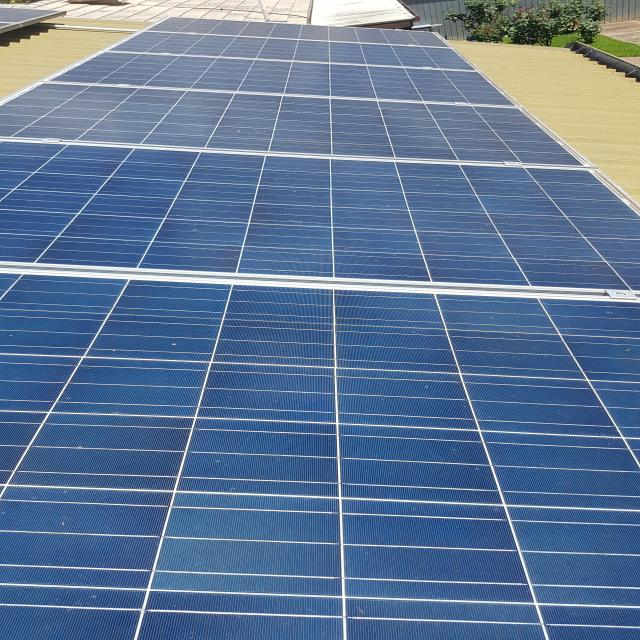dusty: (155, 539, 333, 594)
